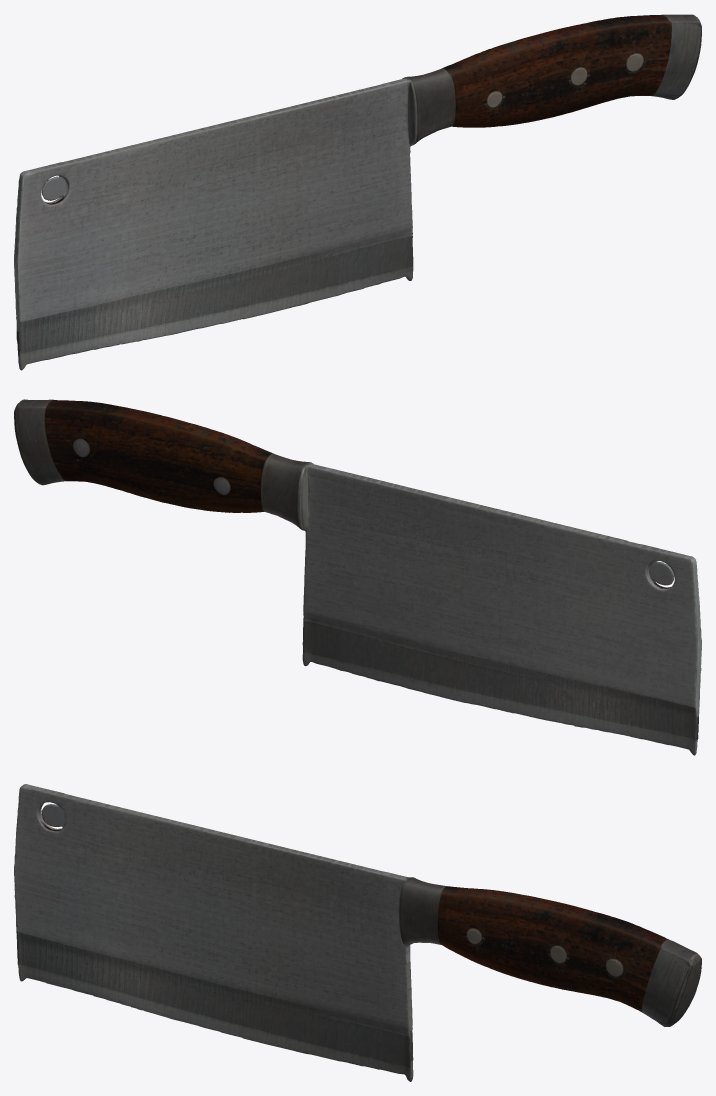
The model's file is ChineseCleaver.fbx.
The picture shows the model from 3 angles, top to bottom: view 1: azimuth 30°, elevation 25°; view 2: azimuth 150°, elevation 25°; view 3: azimuth 330°, elevation 25°; orthographic projection.
Visible parts, largest first — view 1: texture_mapping; view 2: texture_mapping; view 3: texture_mapping.
Boxes of the visible parts, x1,y1,x2,y2 form: texture_mapping: [14, 14, 701, 370]; texture_mapping: [14, 399, 701, 755]; texture_mapping: [14, 784, 701, 1081].
Size of the model in its own units: 99.95 by 29.79 by 5.27.
1 material, 1 textured.
